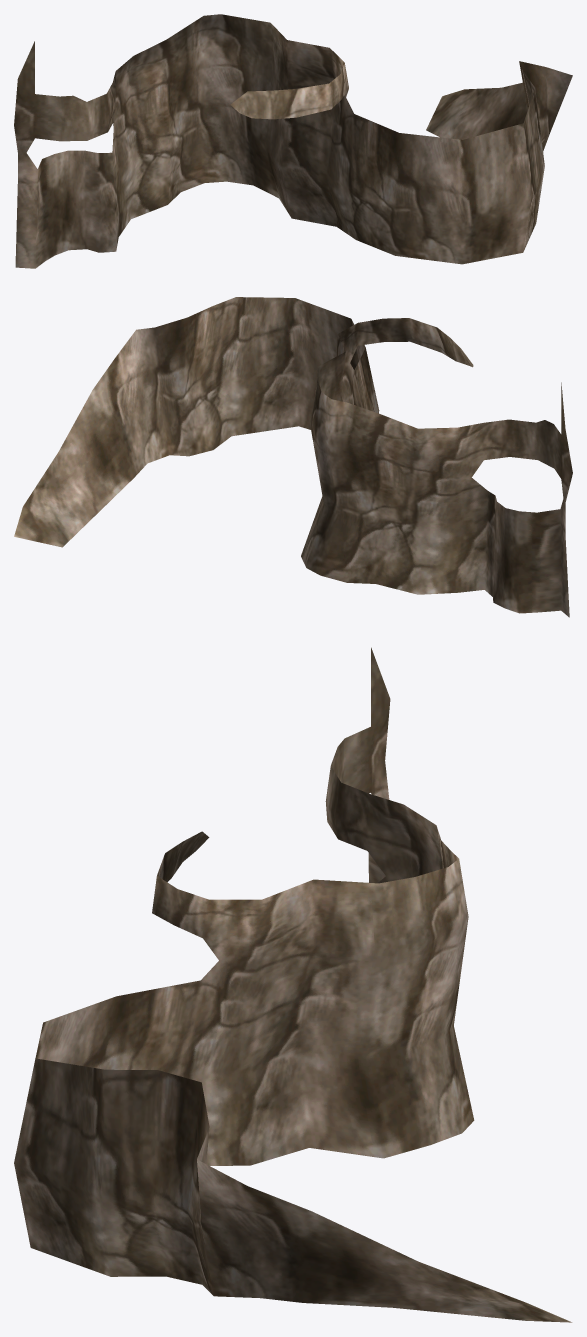
Rendered from EKH_ENTRANCE_PS_EN_ROCK_WALL62624.fbx.
The picture shows the model from 3 angles, top to bottom: view 1: azimuth 30°, elevation 25°; view 2: azimuth 150°, elevation 25°; view 3: azimuth 270°, elevation 25°; orthographic projection. The views are drawn at different scales.
Visible parts, largest first — view 1: EKH_ENTRANCE_PS_EN_ROCK_WALL62624; view 2: EKH_ENTRANCE_PS_EN_ROCK_WALL62624; view 3: EKH_ENTRANCE_PS_EN_ROCK_WALL62624.
Part boxes in pixels (box(x1,y1,x2,y2)): EKH_ENTRANCE_PS_EN_ROCK_WALL62624: box(14, 14, 572, 268); EKH_ENTRANCE_PS_EN_ROCK_WALL62624: box(14, 297, 572, 617); EKH_ENTRANCE_PS_EN_ROCK_WALL62624: box(14, 647, 572, 1322).
Bounding box in the file's own units: 167477 × 75411 × 108497.
Materials: 1 (1 with a texture image).
